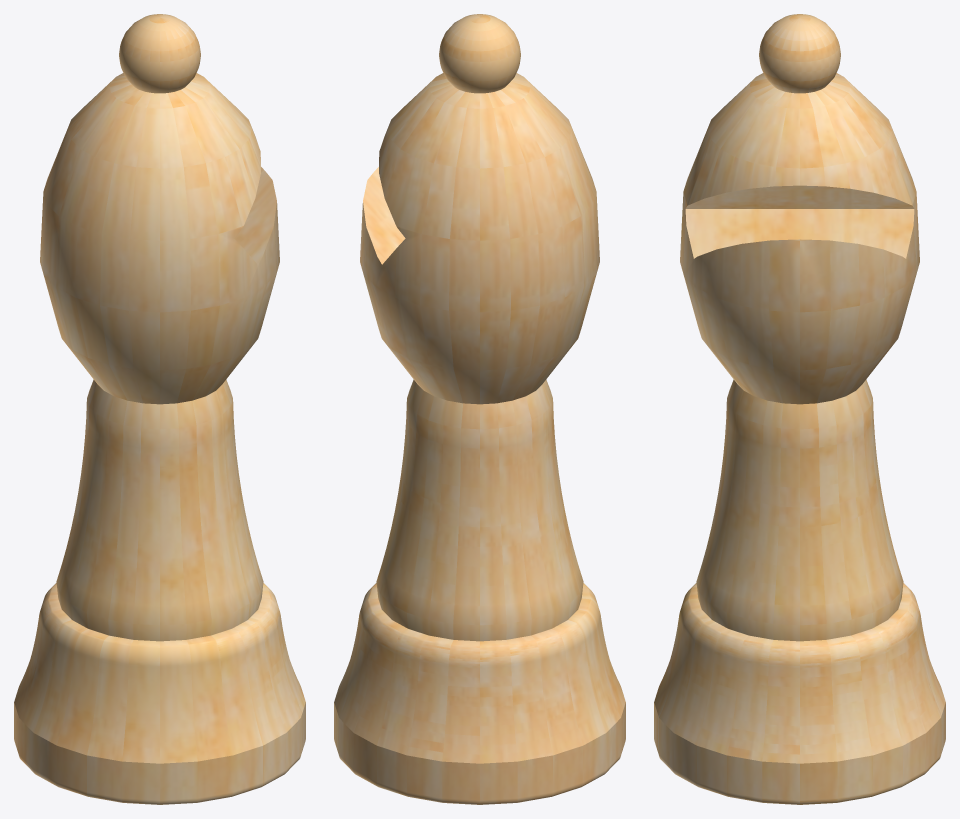
The model's file is Bishop_w.dae.
3 renders of one model, left to right at view 1: azimuth 30°, elevation 25°; view 2: azimuth 150°, elevation 25°; view 3: azimuth 270°, elevation 25°, orthographic.
Visible parts, largest first — view 1: group_0, SketchUp; view 2: group_0, SketchUp; view 3: group_0, SketchUp.
Boxes of the visible parts, x1,y1,x2,y2 form: group_0: (14, 73, 305, 804); SketchUp: (119, 14, 200, 93); group_0: (334, 73, 625, 804); SketchUp: (439, 14, 520, 93); group_0: (654, 73, 945, 804); SketchUp: (759, 14, 840, 93).
Size of the model in its own units: 17.95 by 17.95 by 49.33.
2 materials, 2 textured.
